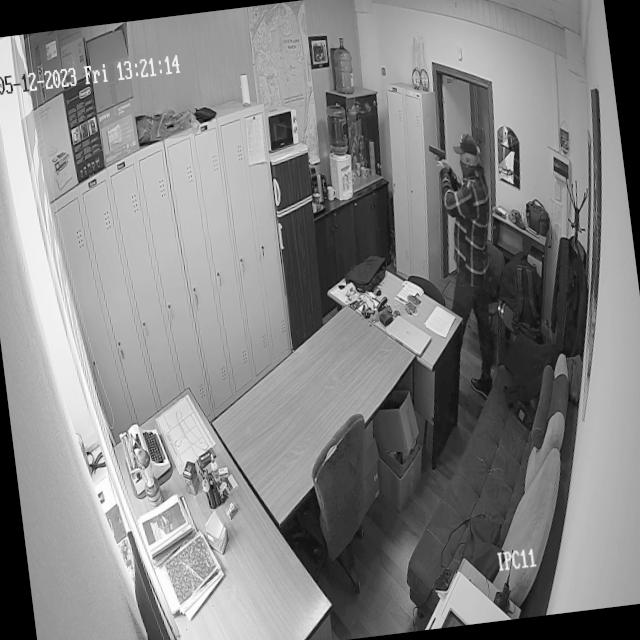gun: (427, 132, 457, 166)
person with a gun: (434, 126, 514, 370)
